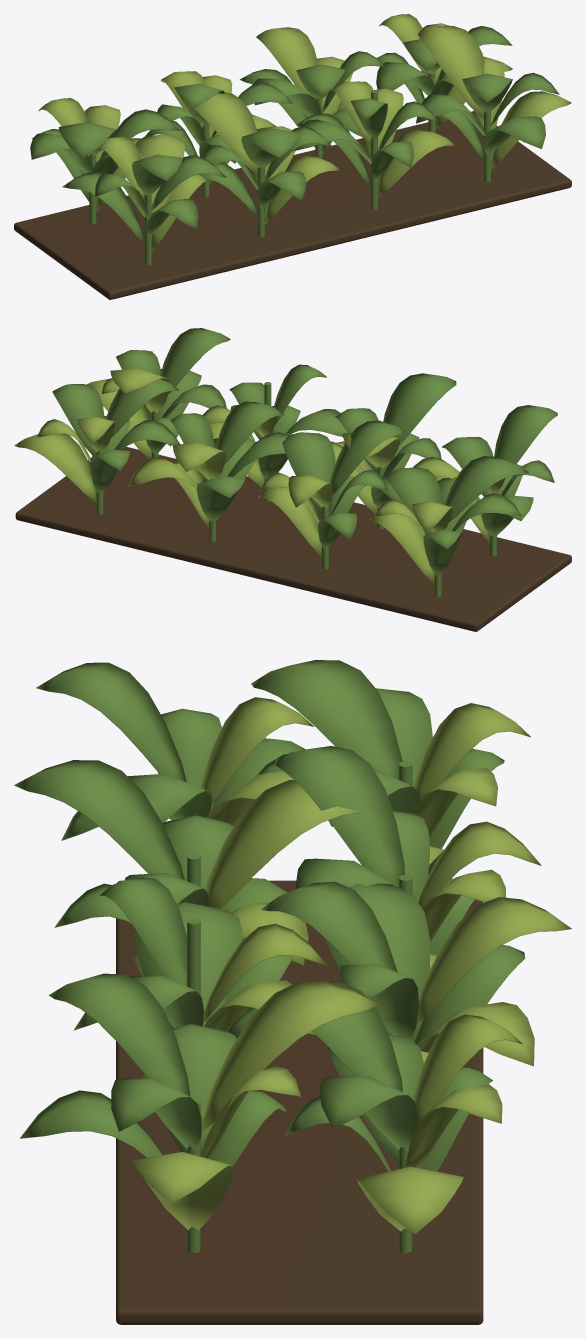
Rendered from crop-tray-leafy.glb.
3 renders of one model, top to bottom at view 1: azimuth 30°, elevation 25°; view 2: azimuth 150°, elevation 25°; view 3: azimuth 270°, elevation 25°, orthographic. The views are drawn at different scales.
Visible parts, largest first — view 1: crop-tray-leafy / 14 • olive leaf, crop-tray-leafy / 17 • growing soil, crop-tray-leafy / 16 • fresh leaf; view 2: crop-tray-leafy / 14 • olive leaf, crop-tray-leafy / 17 • growing soil, crop-tray-leafy / 16 • fresh leaf; view 3: crop-tray-leafy / 14 • olive leaf, crop-tray-leafy / 16 • fresh leaf, crop-tray-leafy / 17 • growing soil.
Boxes of the visible parts, <box> form: crop-tray-leafy / 14 • olive leaf: <box>30,26,559,264</box>; crop-tray-leafy / 17 • growing soil: <box>14,111,571,299</box>; crop-tray-leafy / 16 • fresh leaf: <box>38,14,571,251</box>; crop-tray-leafy / 14 • olive leaf: <box>52,328,557,597</box>; crop-tray-leafy / 17 • growing soil: <box>15,446,571,631</box>; crop-tray-leafy / 16 • fresh leaf: <box>14,368,505,583</box>; crop-tray-leafy / 14 • olive leaf: <box>14,660,525,1252</box>; crop-tray-leafy / 16 • fresh leaf: <box>132,697,571,1234</box>; crop-tray-leafy / 17 • growing soil: <box>116,880,483,1324</box>.
Bounding box in the file's own units: 1.75 × 0.4827 × 0.8958.
